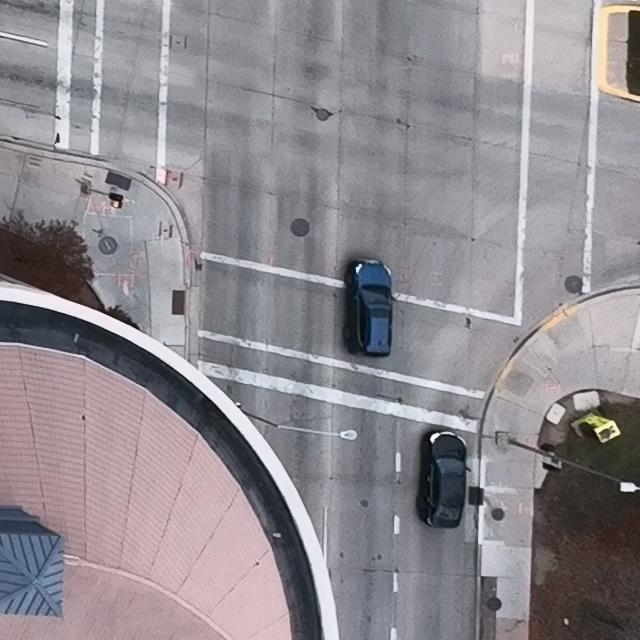car: (416, 427, 473, 527), (343, 259, 398, 357)
